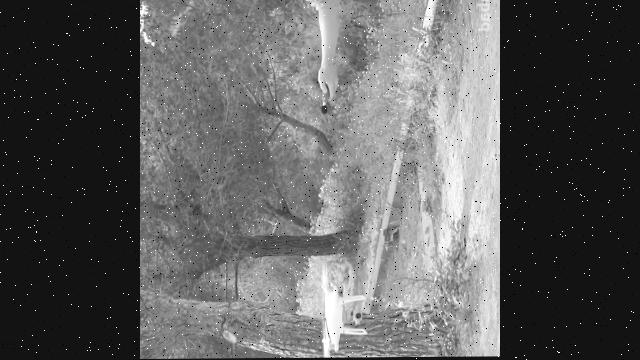drone: (319, 259, 366, 358)
